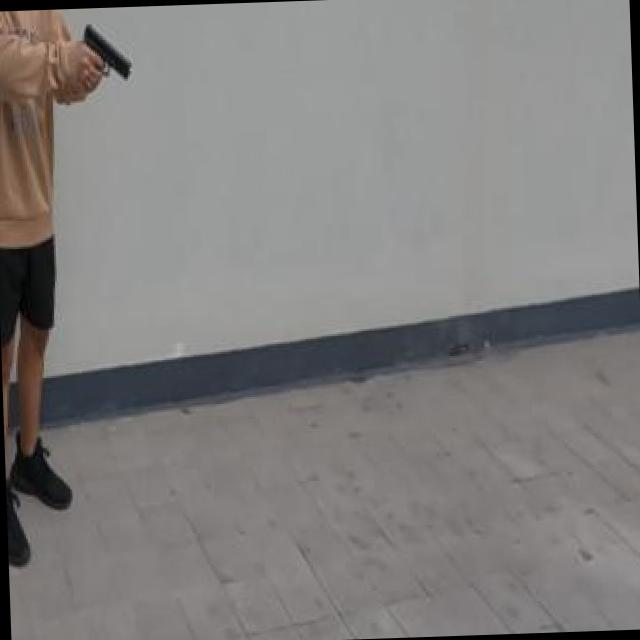Guns: (66, 10, 148, 99)
